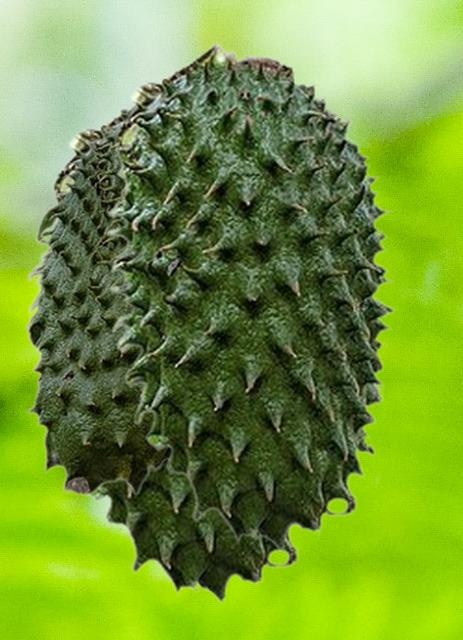guyabano: (105, 40, 396, 550), (48, 106, 324, 602), (24, 104, 168, 496)
